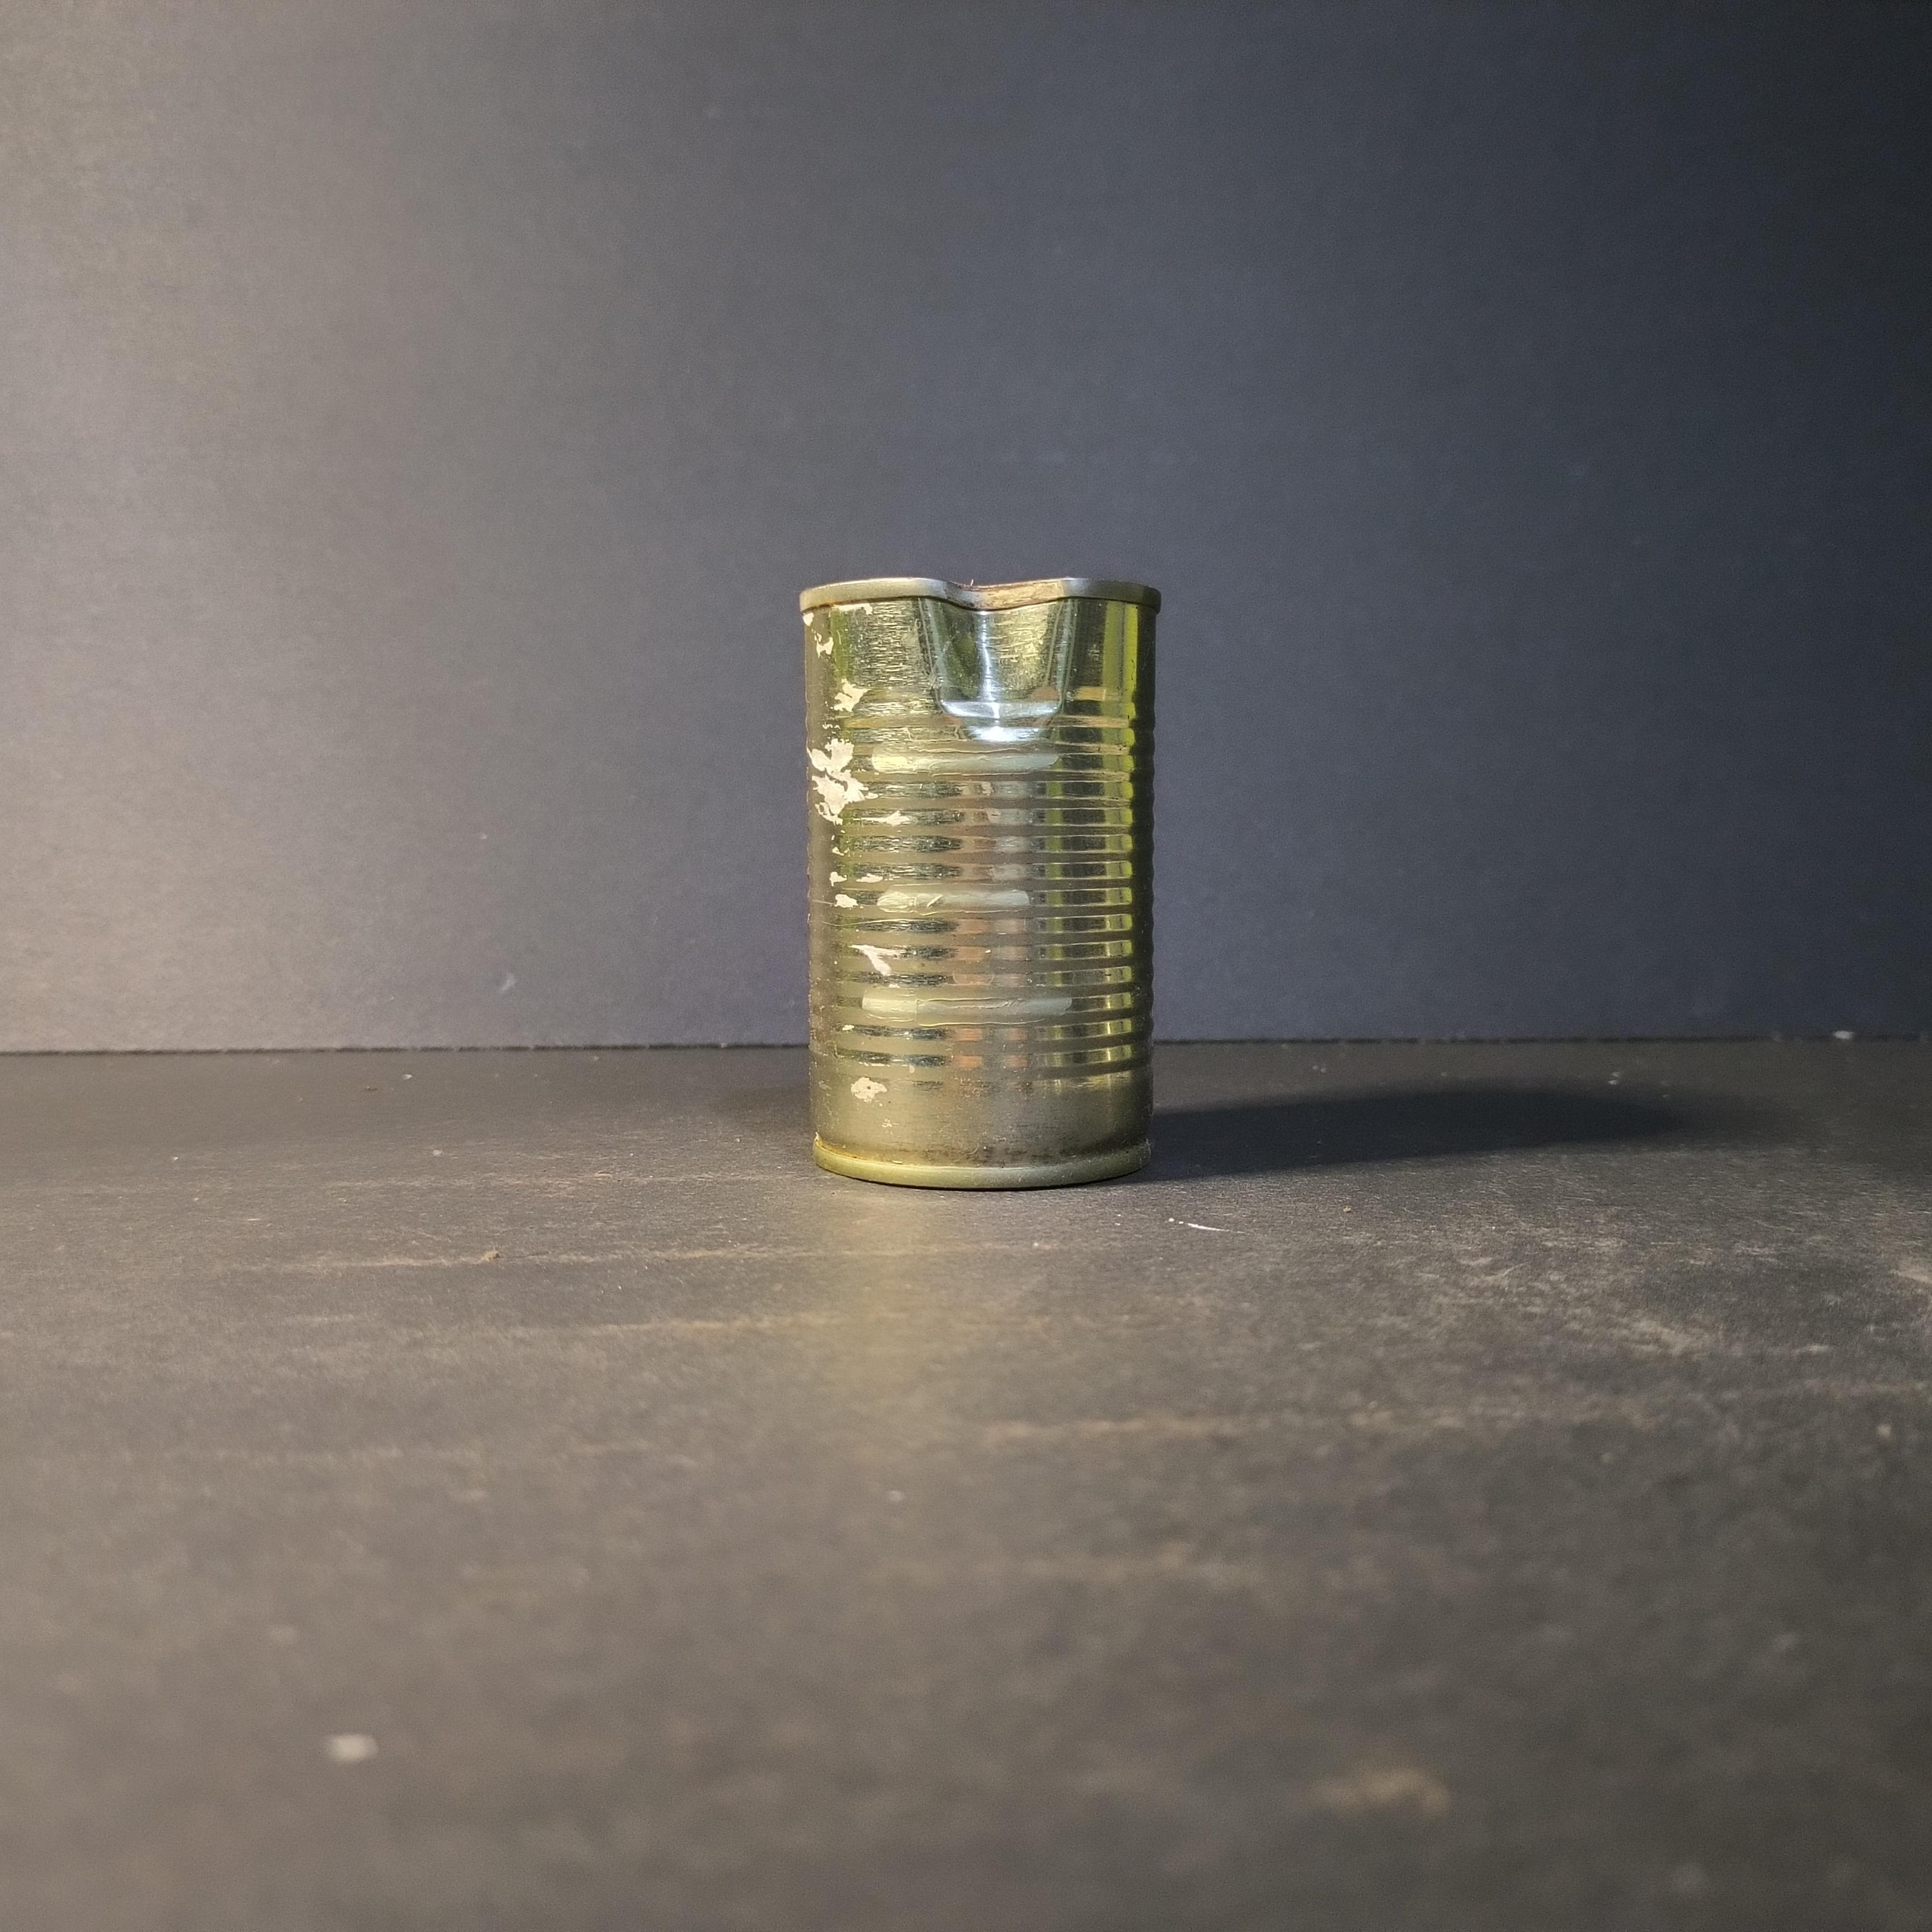Dented: (771, 557, 1194, 1196)
